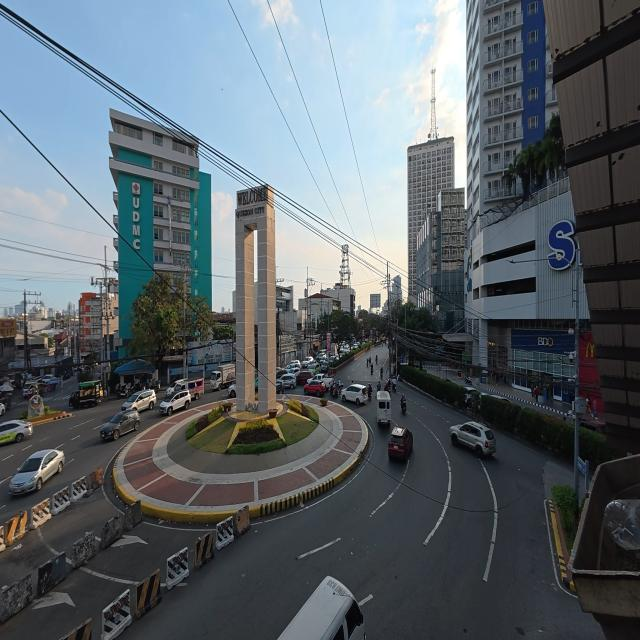car: (8, 450, 64, 499), (452, 421, 500, 458), (99, 411, 141, 442), (390, 425, 416, 462), (0, 418, 32, 444), (306, 372, 341, 395), (122, 392, 158, 414), (343, 383, 370, 404), (276, 374, 297, 392)
